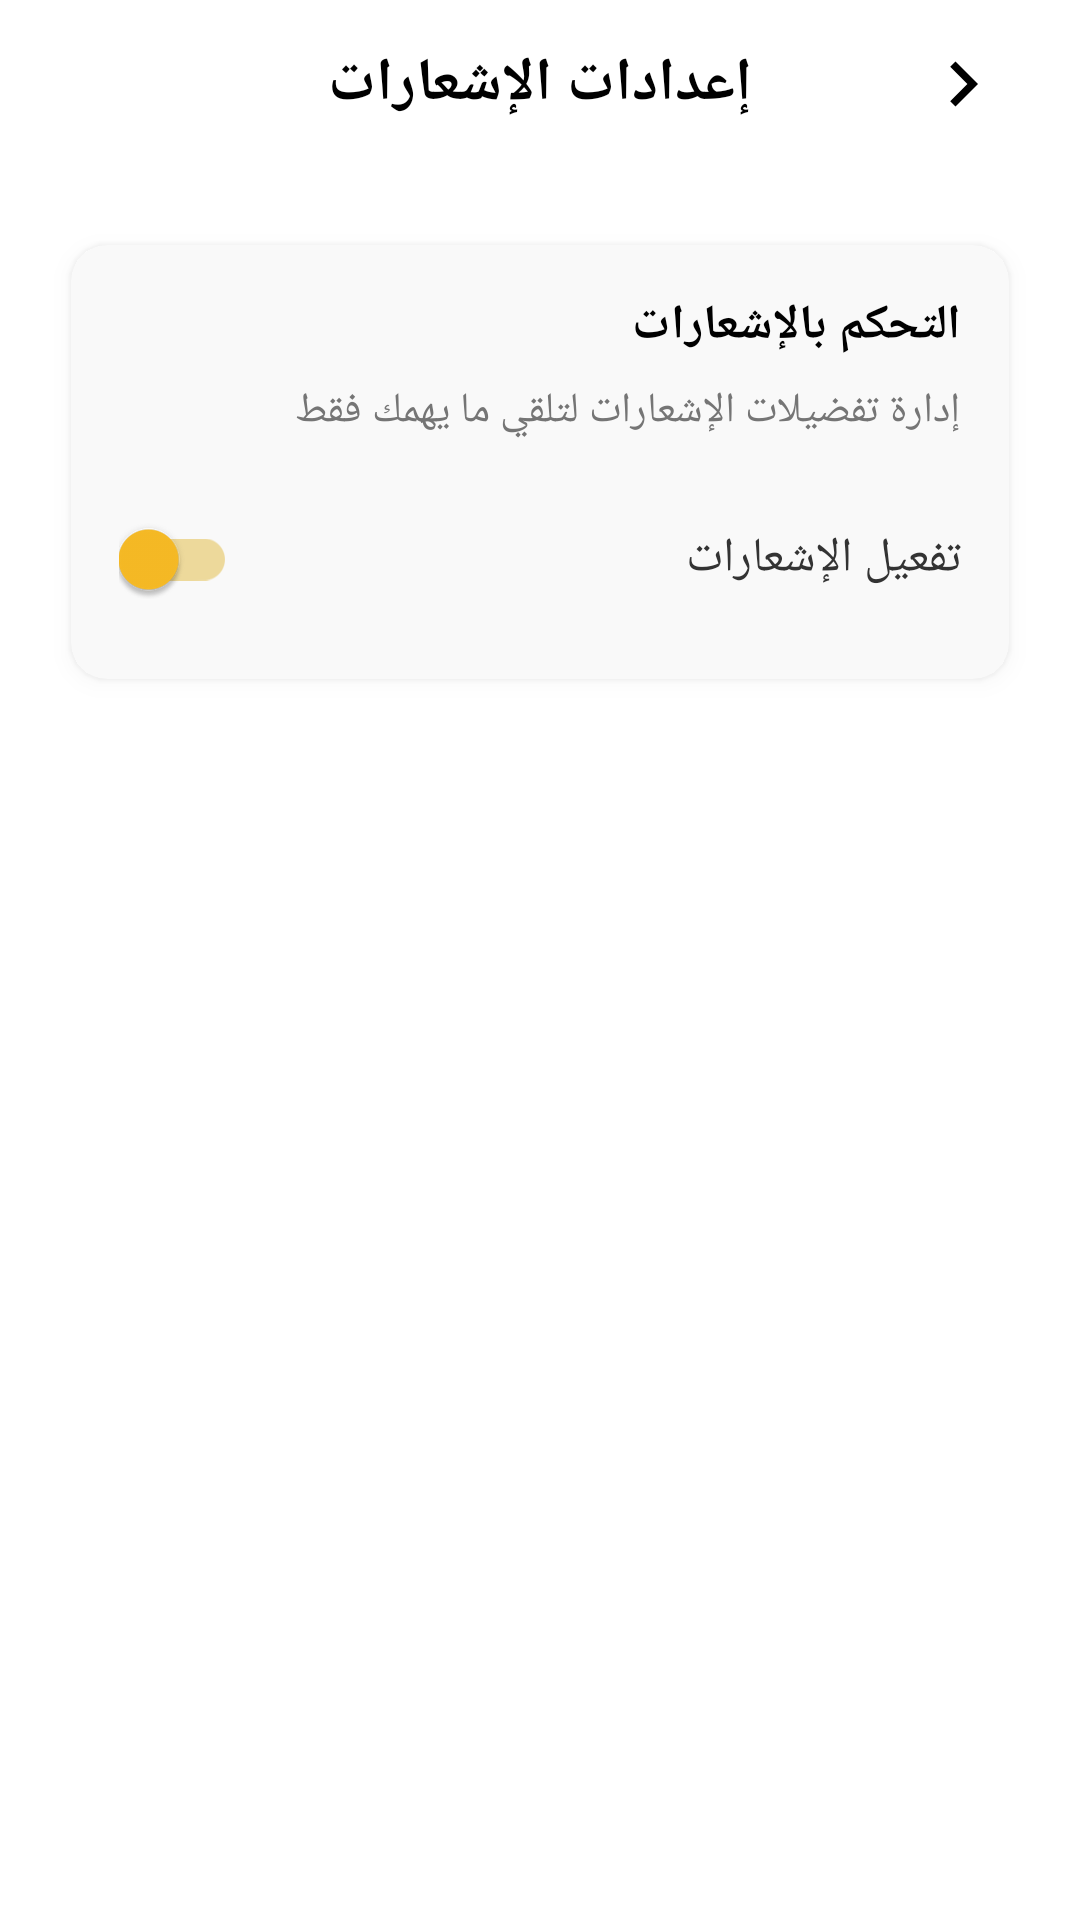

Icons on this 1080px x 1920px Android screen, each with its box as [x1,y1,x2,y2]:
رجوع: [950,61,978,107]
